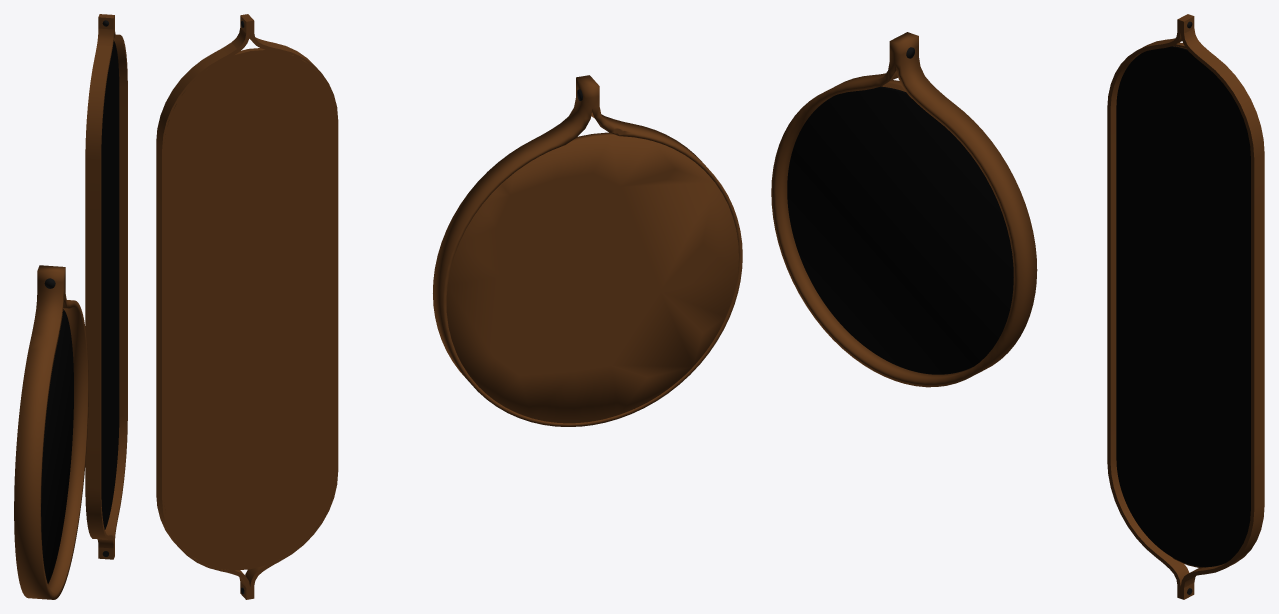
File: mirrors.FBX
3 renders of one model, left to right at view 1: azimuth 30°, elevation 25°; view 2: azimuth 150°, elevation 25°; view 3: azimuth 270°, elevation 25°, orthographic. The views are drawn at different scales.
Visible parts, largest first — view 1: mirrors, mirrors_2; view 2: mirrors, mirrors_2; view 3: mirrors, mirrors_2.
Boxes of the visible parts, <box> form: mirrors: <box>85,14,127,559</box>; mirrors_2: <box>14,265,88,599</box>; mirrors: <box>156,14,338,599</box>; mirrors_2: <box>433,75,742,426</box>; mirrors: <box>1107,14,1264,599</box>; mirrors_2: <box>771,32,1037,387</box>.
Bounding box in the file's own units: 379 × 592 × 458.
